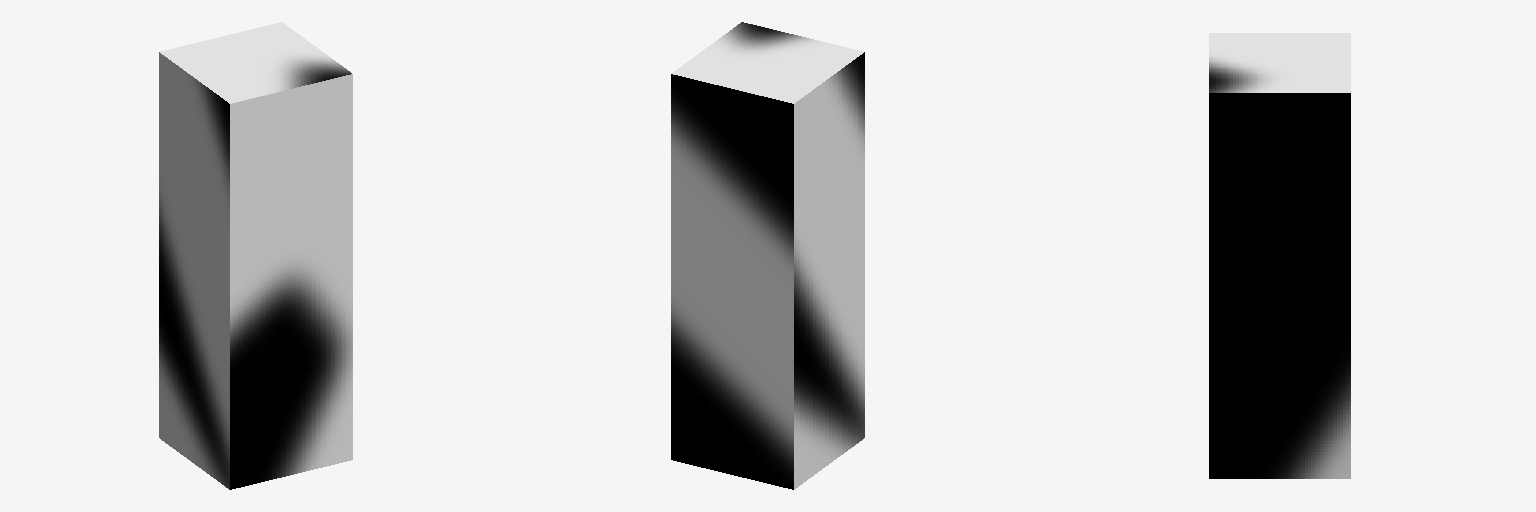
The picture shows the model from 3 angles: view 1: azimuth 30°, elevation 25°; view 2: azimuth 150°, elevation 25°; view 3: azimuth 270°, elevation 25°; orthographic projection.
Parts seen in each view (by area): view 1: 右前腕; view 2: 右前腕; view 3: 右前腕.
Boxes of the visible parts, box(x1,y1,x2,y2) form: 右前腕: box(159, 22, 352, 489); 右前腕: box(671, 22, 864, 489); 右前腕: box(1209, 33, 1350, 478).
Bounding box in the file's own units: 2 × 6 × 2.
1 materials, 1 textured.